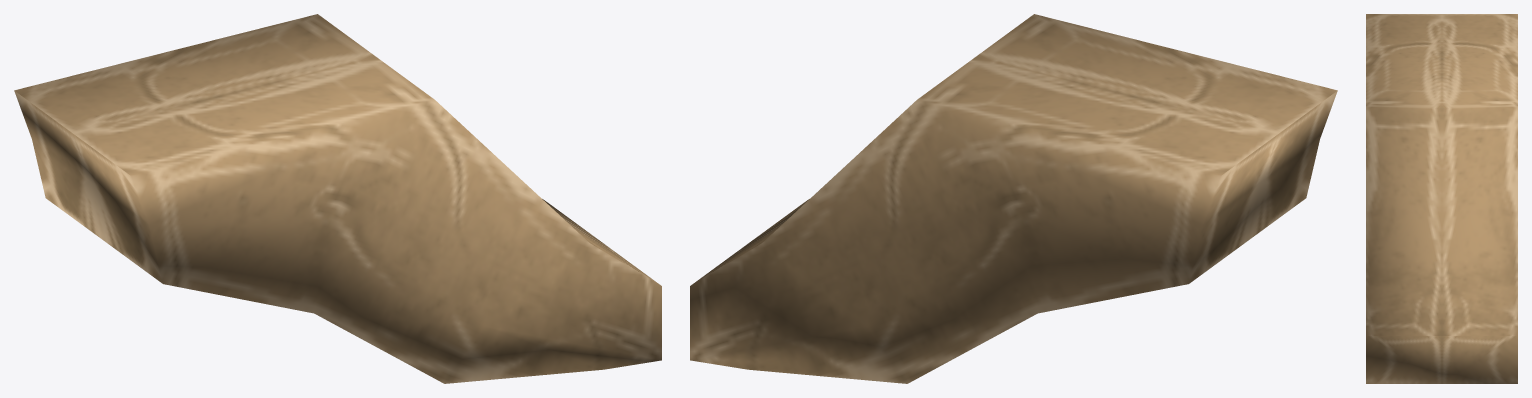
The model's file is FBX_flying_stone_01.fbx.
3 views of the same model, side by side, from view 1: azimuth 30°, elevation 25°; view 2: azimuth 150°, elevation 25°; view 3: azimuth 270°, elevation 25° (orthographic). The views are drawn at different scales.
Parts seen in each view (by area): view 1: polySurface_flying_stone_01; view 2: polySurface_flying_stone_01; view 3: polySurface_flying_stone_01.
Boxes of the visible parts, x1=… form: polySurface_flying_stone_01: x1=14, y1=14, x2=661, y2=383; polySurface_flying_stone_01: x1=690, y1=14, x2=1337, y2=383; polySurface_flying_stone_01: x1=1366, y1=14, x2=1517, y2=383.
Bounding box in the file's own units: 6.4 × 3.64 × 2.45.
